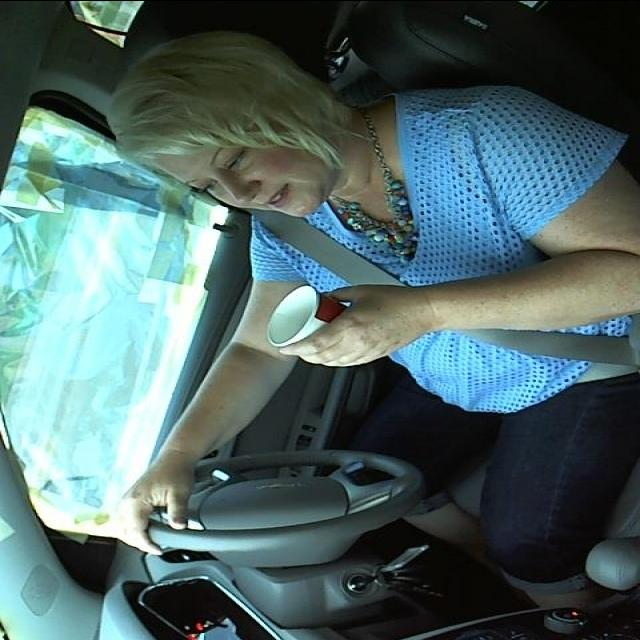drinking: (262, 283, 376, 365)
